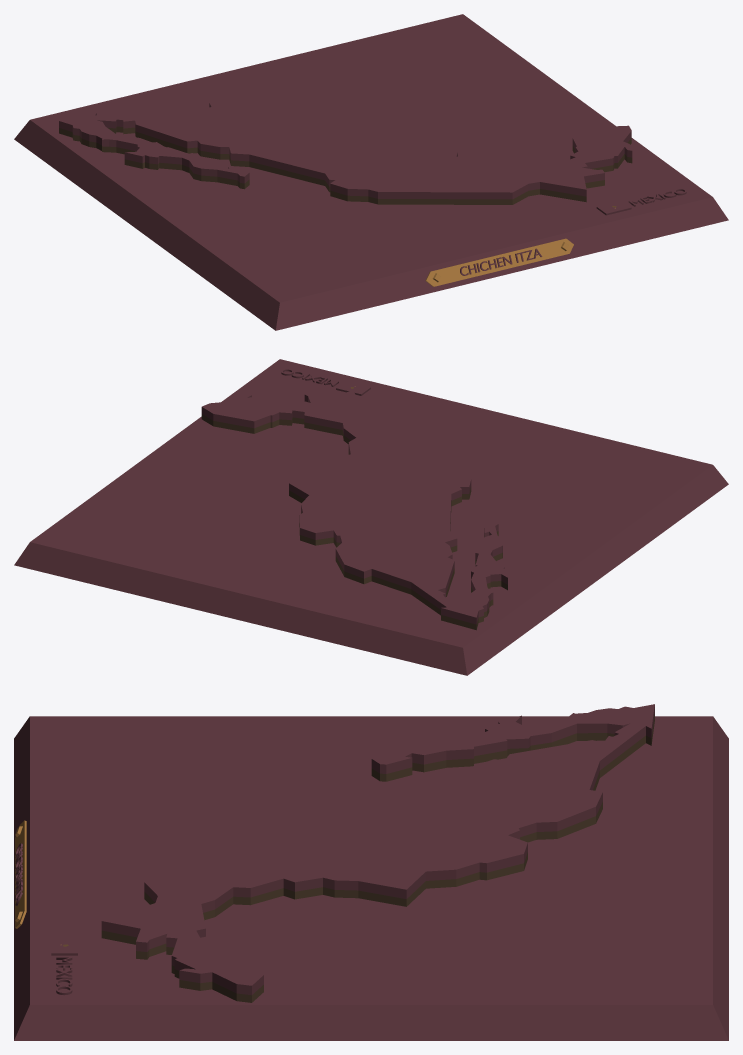
The model's file is SM_Island_Pyramid_Mexican_Landmark.fbx.
3 renders of one model, top to bottom at view 1: azimuth 30°, elevation 25°; view 2: azimuth 150°, elevation 25°; view 3: azimuth 270°, elevation 25°, orthographic. The views are drawn at different scales.
Visible parts, largest first — view 1: Island_Pyramid_Mexican_Landmark; view 2: Island_Pyramid_Mexican_Landmark; view 3: Island_Pyramid_Mexican_Landmark.
Boxes of the visible parts, x1,y1,x2,y2 form: Island_Pyramid_Mexican_Landmark: (14, 14, 728, 330); Island_Pyramid_Mexican_Landmark: (14, 359, 728, 675); Island_Pyramid_Mexican_Landmark: (14, 704, 728, 1040).
Bounding box in the file's own units: 68.5 × 4.9 × 68.5.
